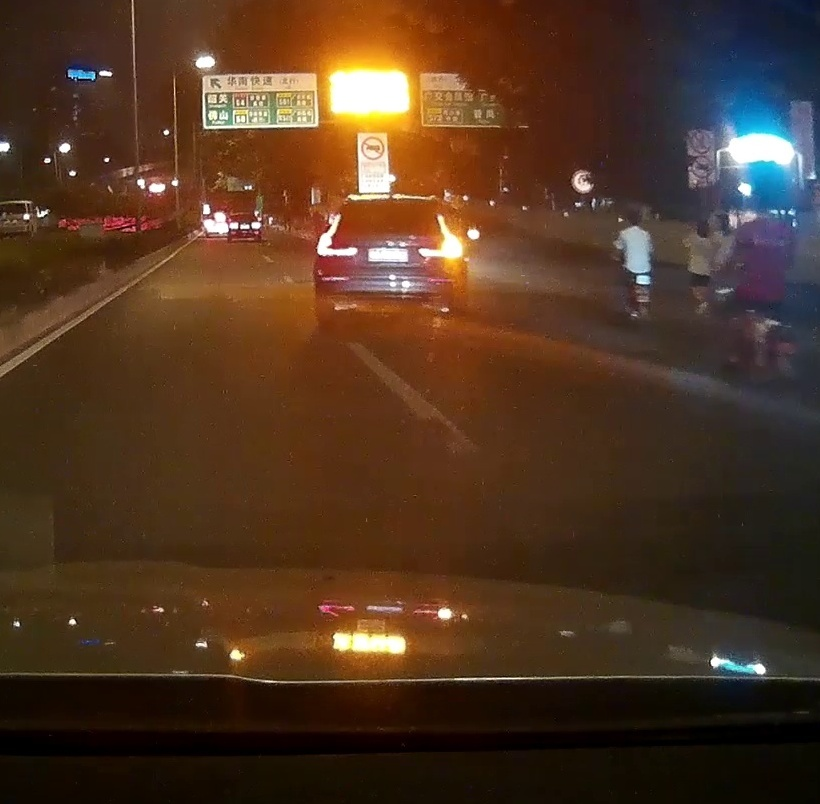L_light: (315, 214, 358, 257)
R_light: (417, 216, 461, 257)
T_light: (379, 202, 404, 209)
night-right: (313, 192, 468, 315)
